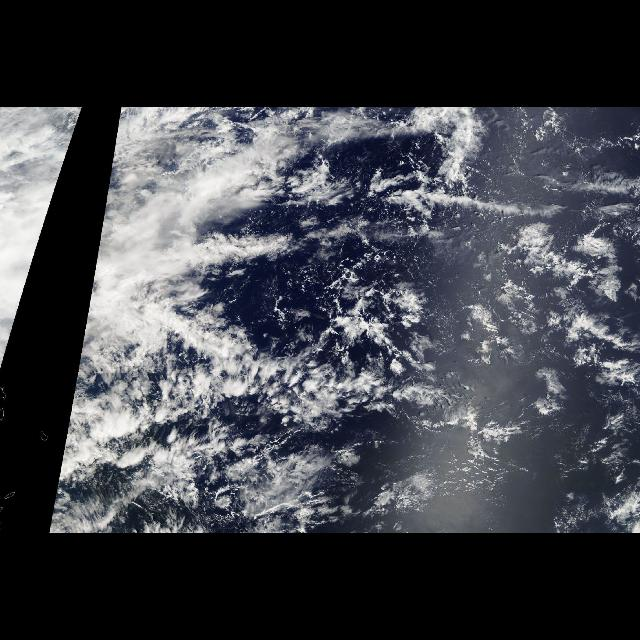Fish: (62, 328, 420, 466)
Gravel: (472, 222, 640, 414)
